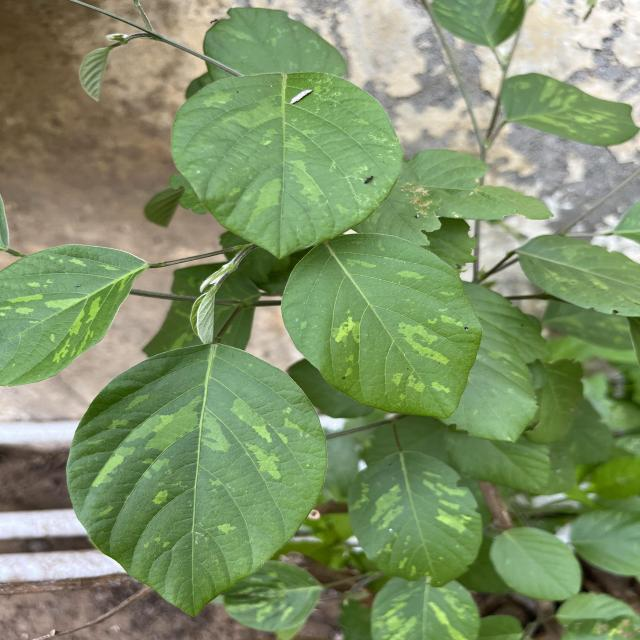Desmodium gangeticum: (64, 340, 334, 620), (168, 69, 406, 261), (279, 229, 487, 422), (0, 243, 149, 392)
